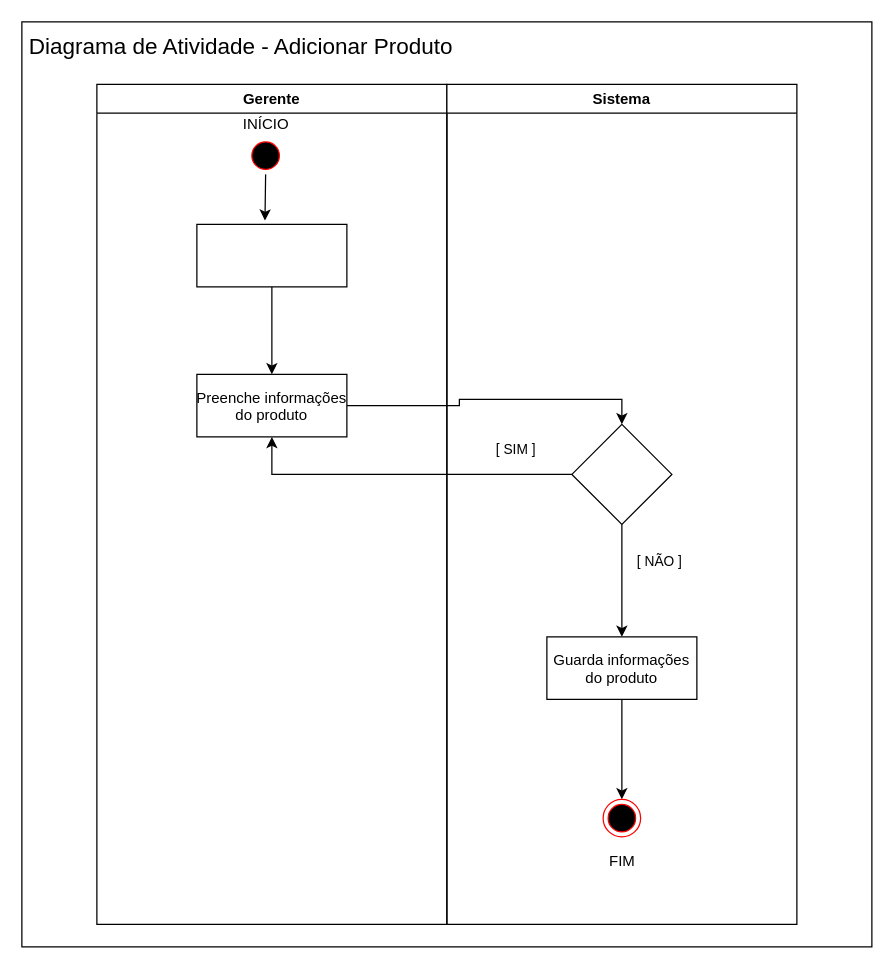
This 894x969 diagram has some shape labels left out. Here are the shapes that lost their labels. From the top down, the centre of each, then its label:
At point 271,255: "Faz login".
At point 621,473: "Verifica se Já existem".
